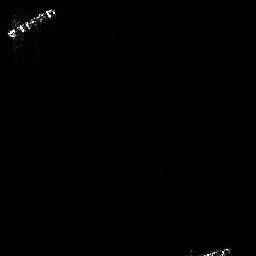ship: (5, 5, 60, 42)
